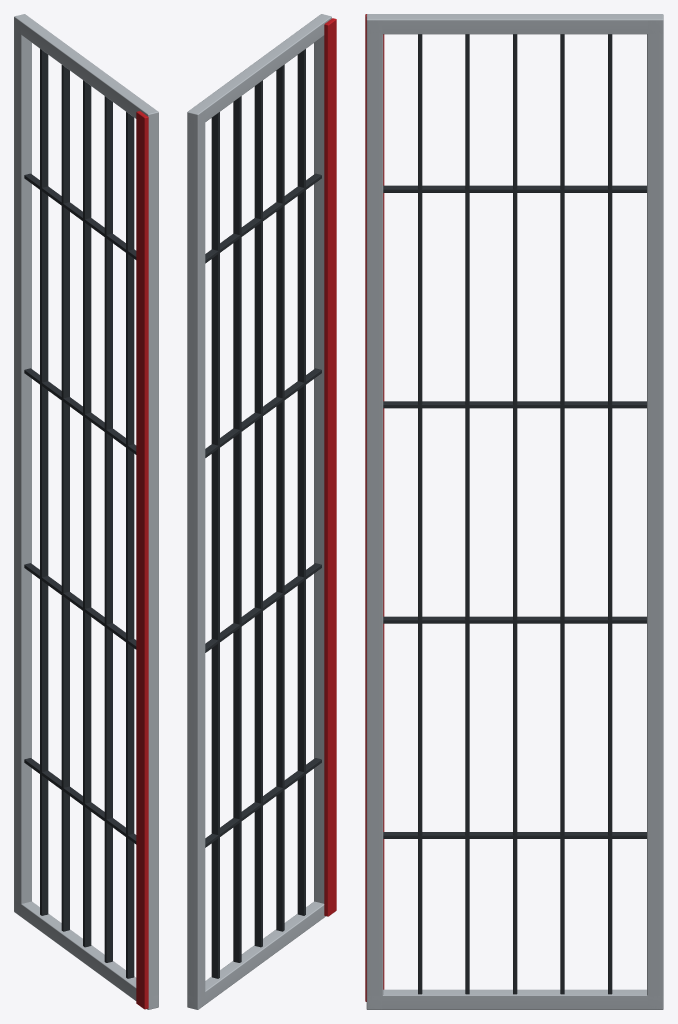
File: SM_PalletLift_Gate.fbx
3 renders of one model, left to right at view 1: azimuth 30°, elevation 25°; view 2: azimuth 150°, elevation 25°; view 3: azimuth 270°, elevation 25°, orthographic. The views are drawn at different scales.
Parts seen in each view (by area): view 1: SM_PalletLift_Gate; view 2: SM_PalletLift_Gate; view 3: SM_PalletLift_Gate.
Part boxes in pixels (x1,y1,x2,y2): SM_PalletLift_Gate: (14,14,158,1009); SM_PalletLift_Gate: (187,14,336,1009); SM_PalletLift_Gate: (365,14,663,1009).
Size of what is drawn, in the model's own units: 0.041 by 0.6275 by 2.3.
